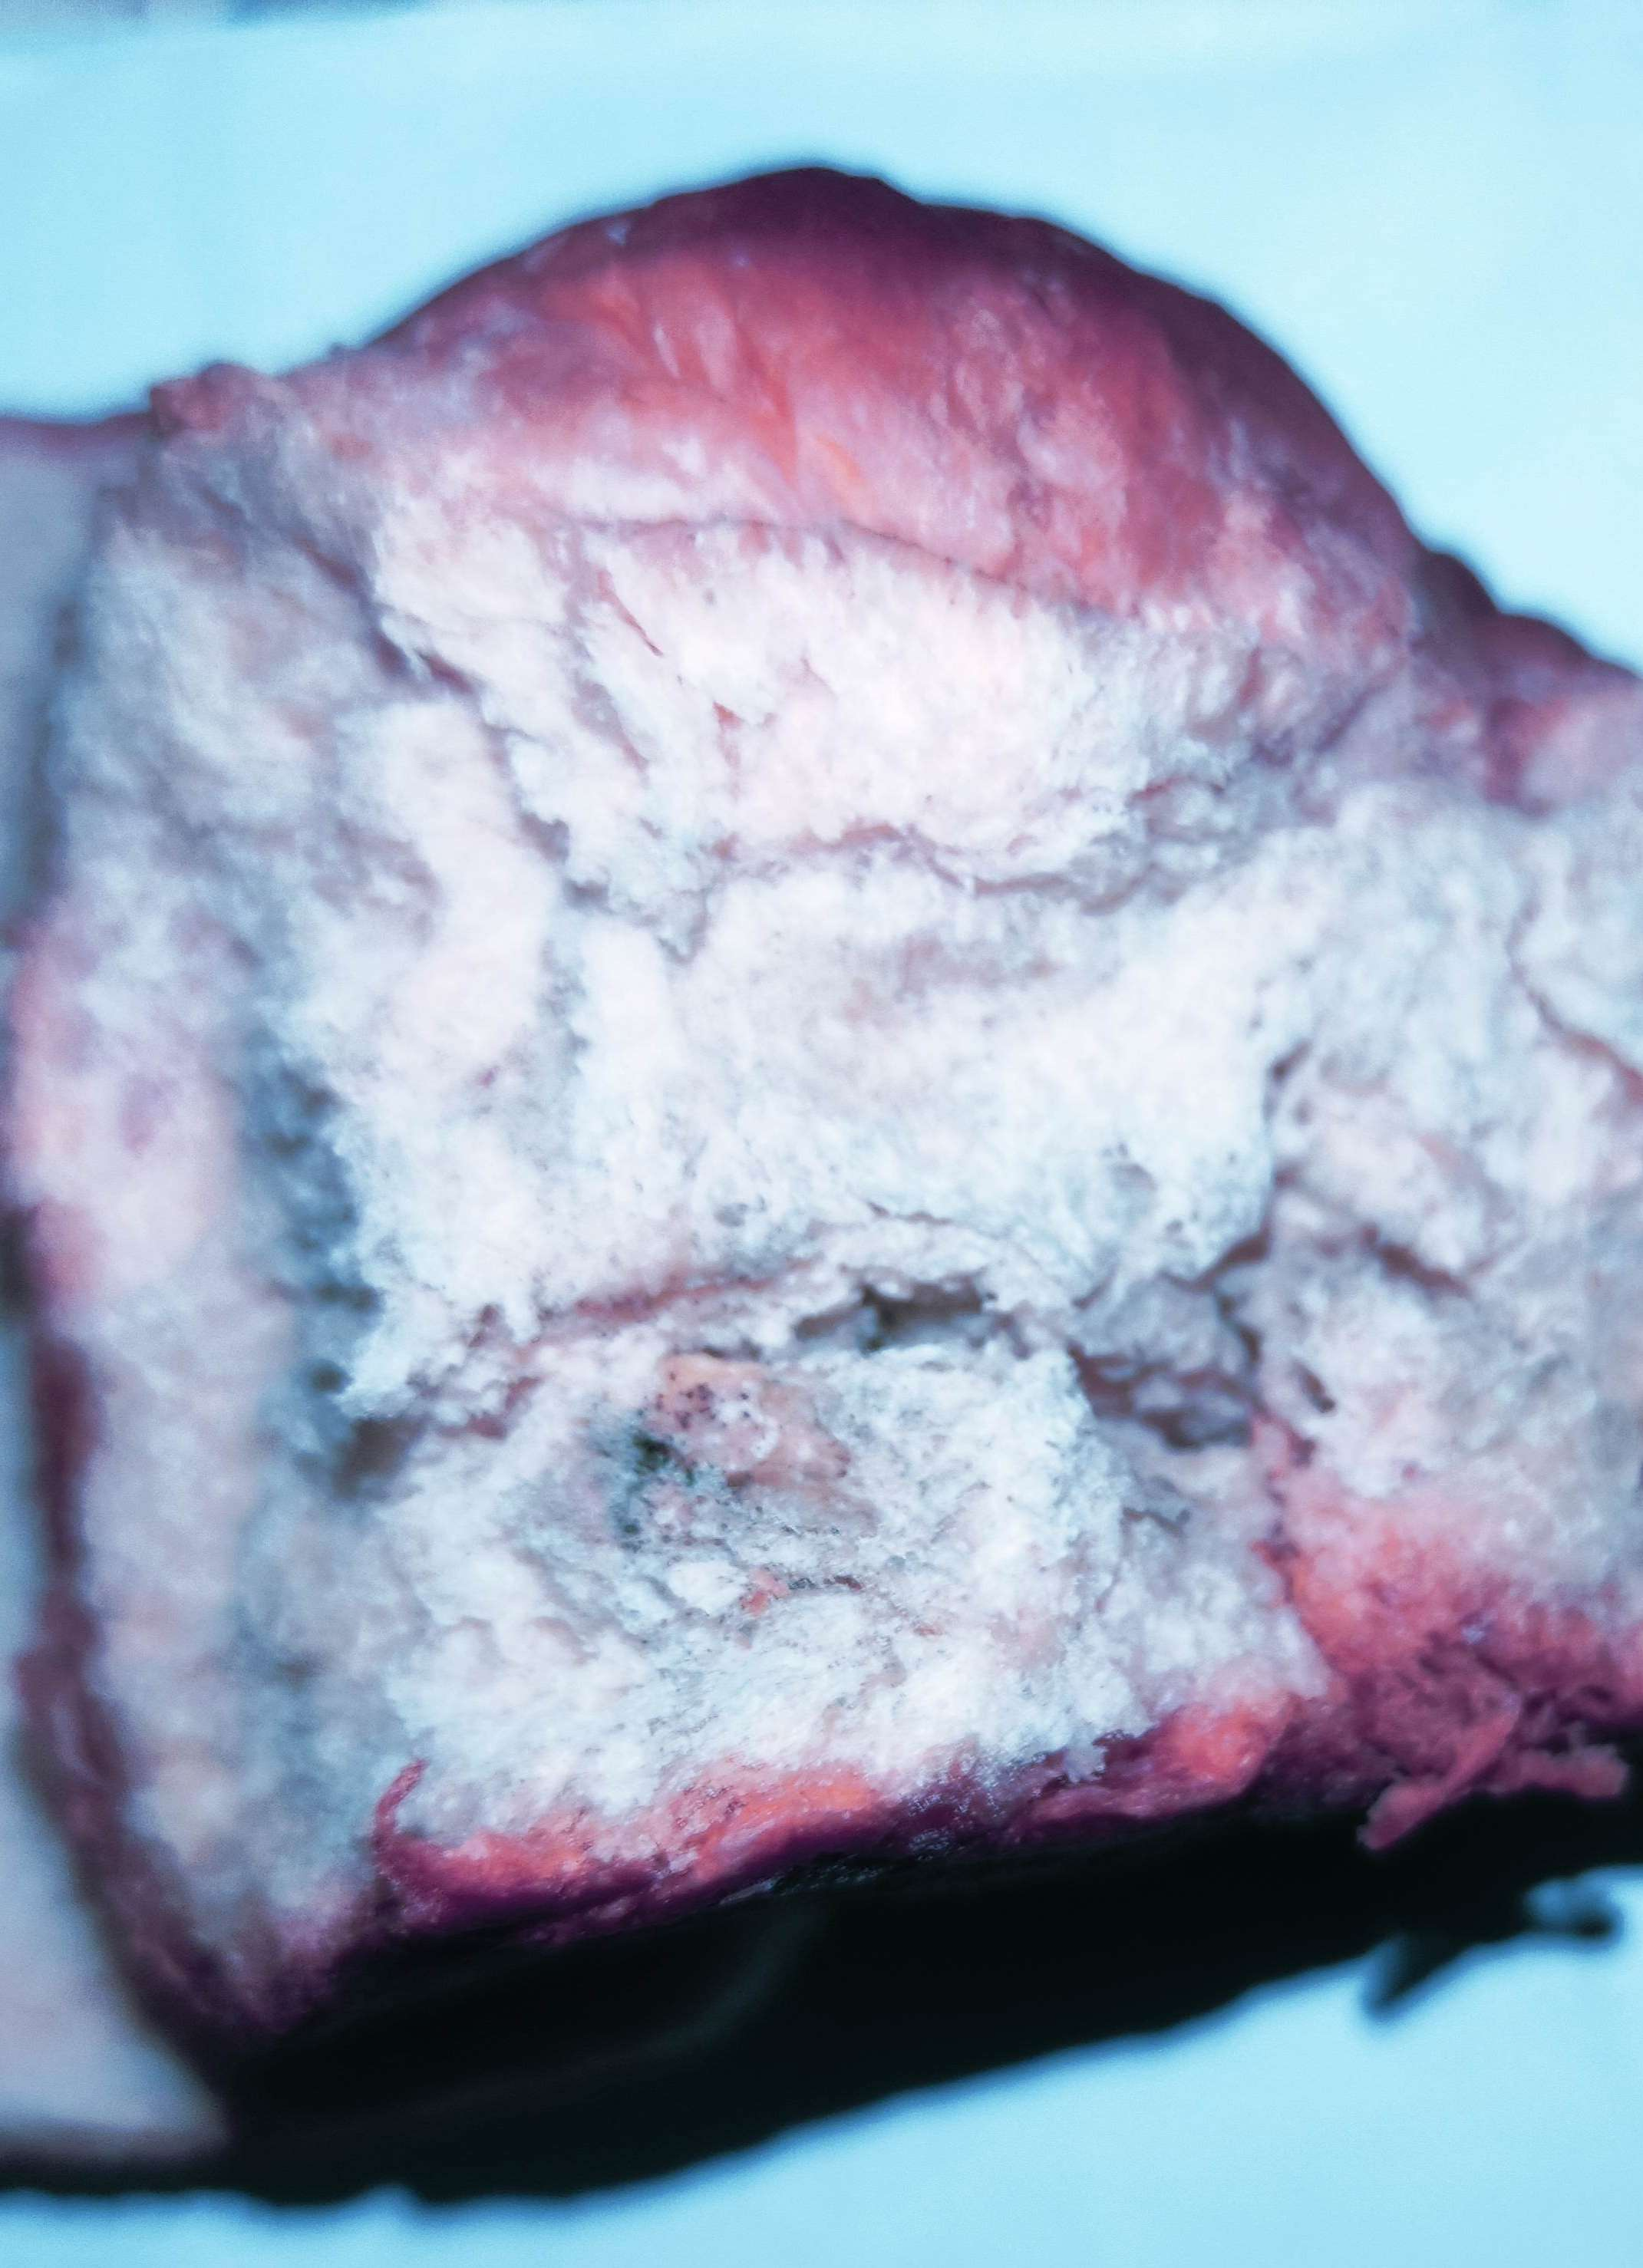mold_bread: (574, 1359, 972, 1599), (1069, 1338, 1289, 1564)
